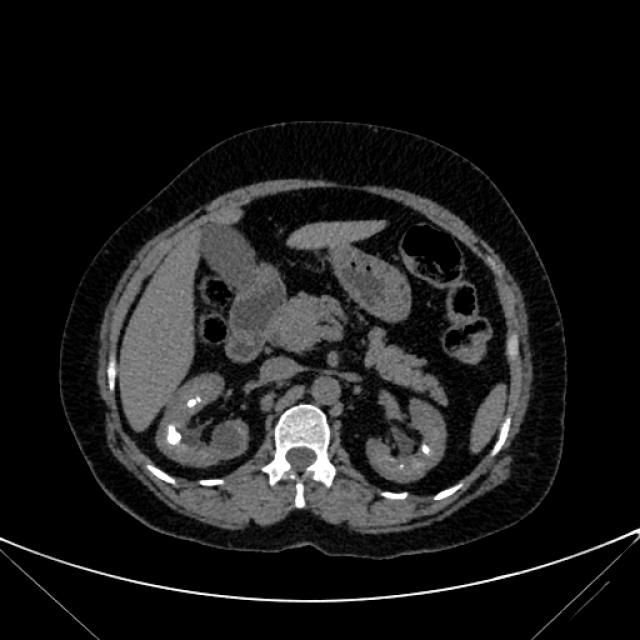kidney: (162, 374, 237, 459), (376, 407, 442, 472)
stone: (168, 426, 178, 443), (188, 398, 200, 406), (423, 446, 429, 454), (400, 465, 404, 468)
